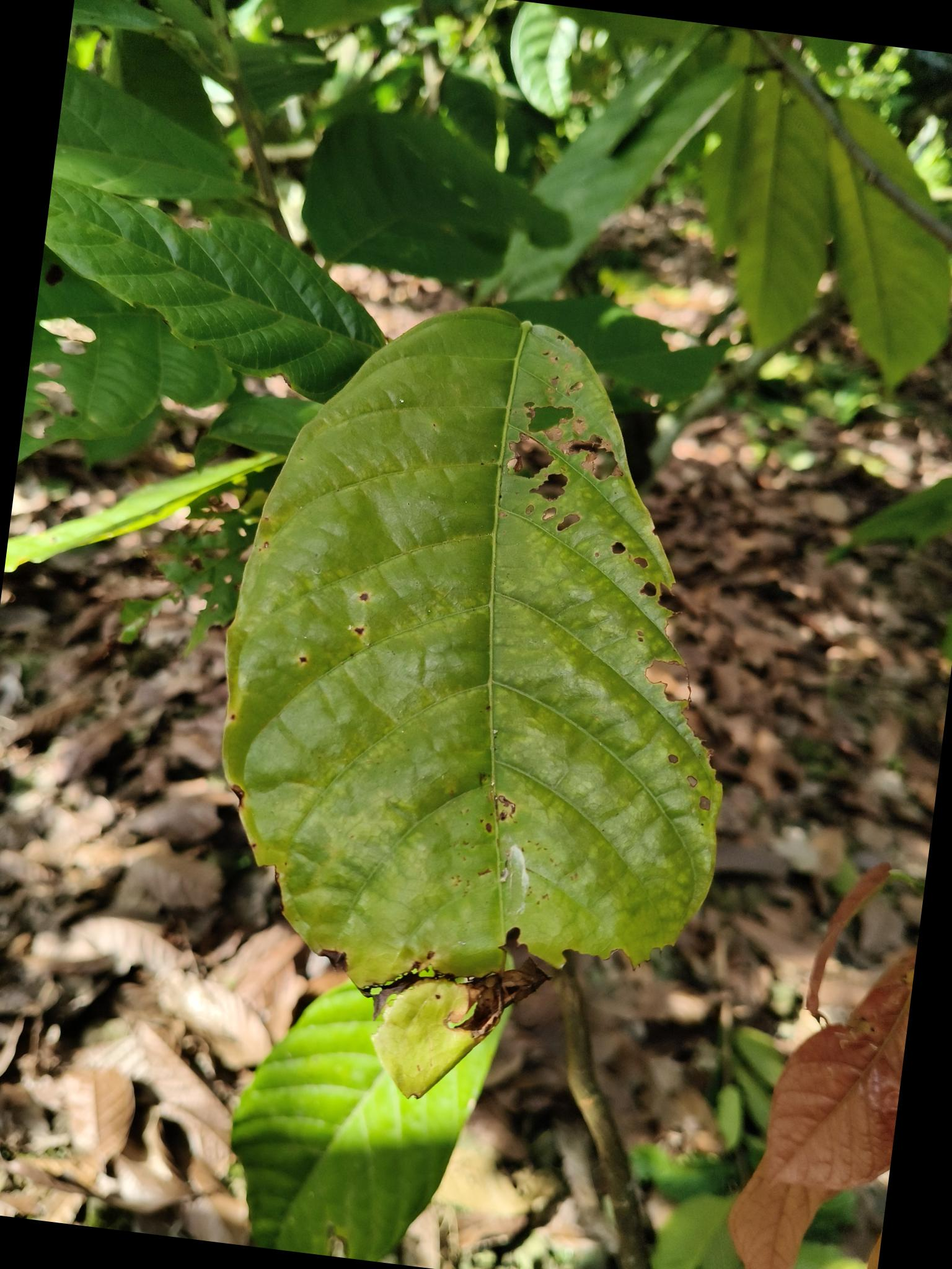Fosforo: (222, 303, 741, 1020)
